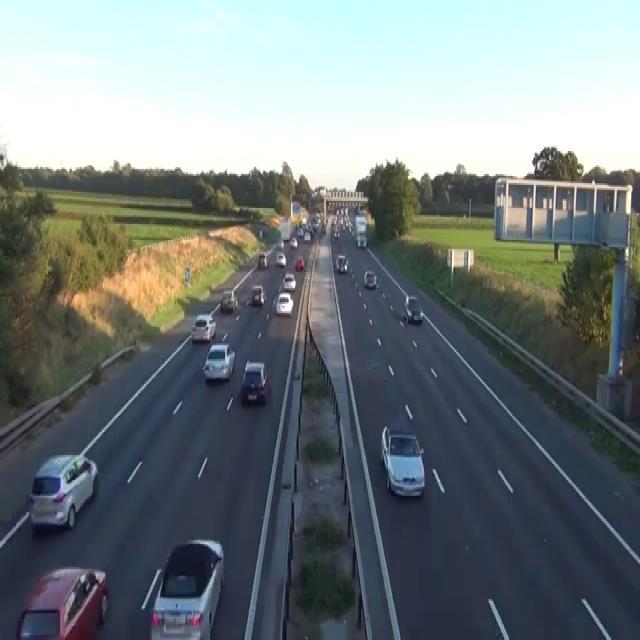Car: (149, 537, 224, 638), (16, 566, 108, 638), (29, 452, 98, 532), (380, 425, 425, 498), (240, 359, 269, 404), (202, 343, 235, 382), (191, 313, 216, 341), (403, 295, 423, 324), (274, 292, 293, 314), (220, 290, 238, 311), (251, 284, 266, 306), (363, 268, 377, 288), (336, 252, 348, 274), (282, 272, 296, 290), (275, 250, 286, 266), (356, 231, 366, 247), (258, 252, 267, 268), (295, 254, 304, 270), (258, 224, 267, 236), (289, 236, 297, 249), (270, 217, 279, 227), (303, 231, 311, 242), (348, 220, 354, 233), (276, 240, 284, 249), (328, 203, 334, 213), (297, 226, 303, 236), (321, 224, 326, 235), (301, 217, 307, 226), (333, 230, 339, 238), (258, 228, 263, 236)
Truck: (354, 215, 367, 247), (290, 201, 300, 222)
